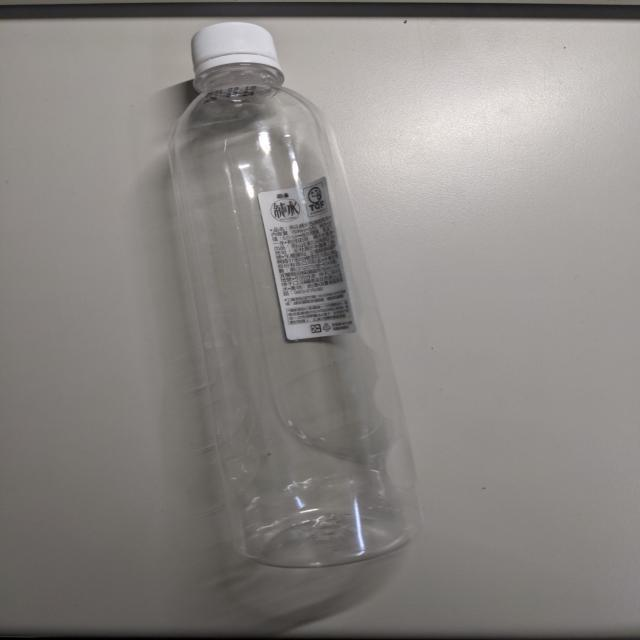Plastic: (186, 19, 402, 563)
